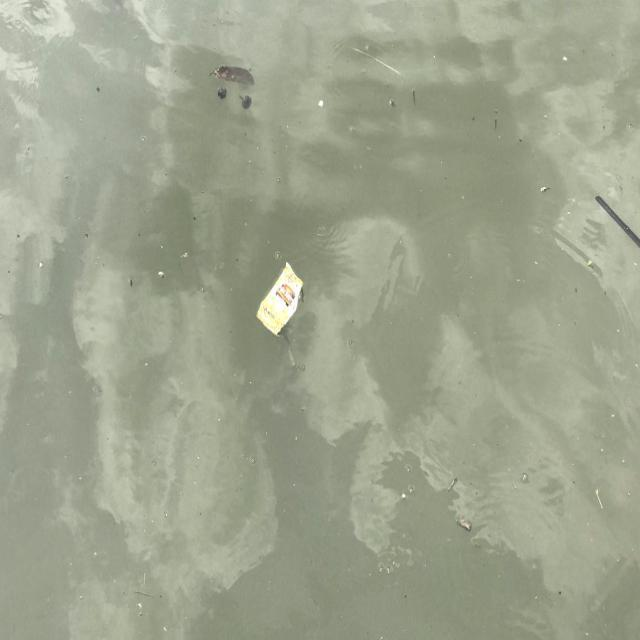Juice Box: (255, 259, 305, 340)
